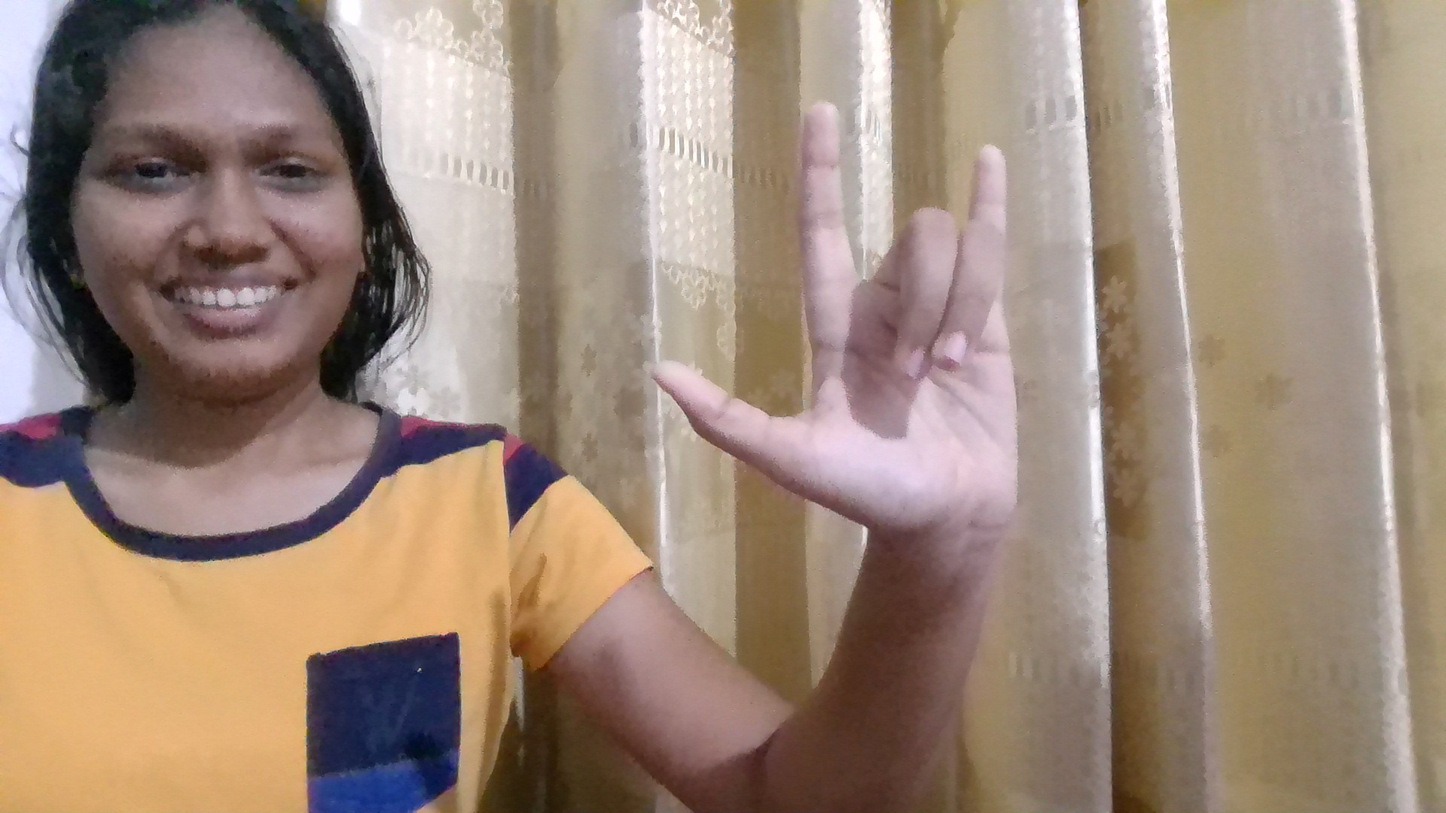I Love You: (582, 114, 1094, 576)
